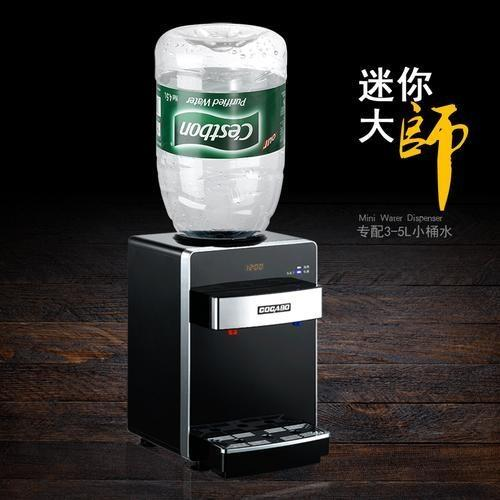Dispenser: (126, 22, 330, 476)
